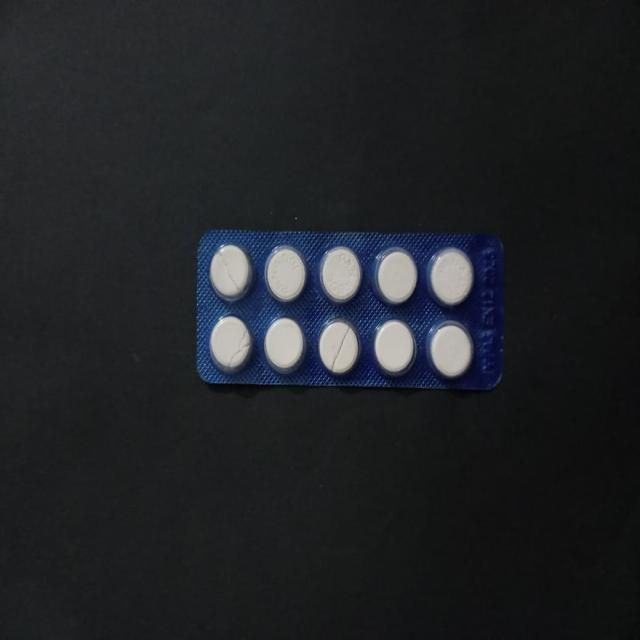defect: (206, 240, 256, 307), (207, 312, 256, 379), (315, 313, 364, 379)
